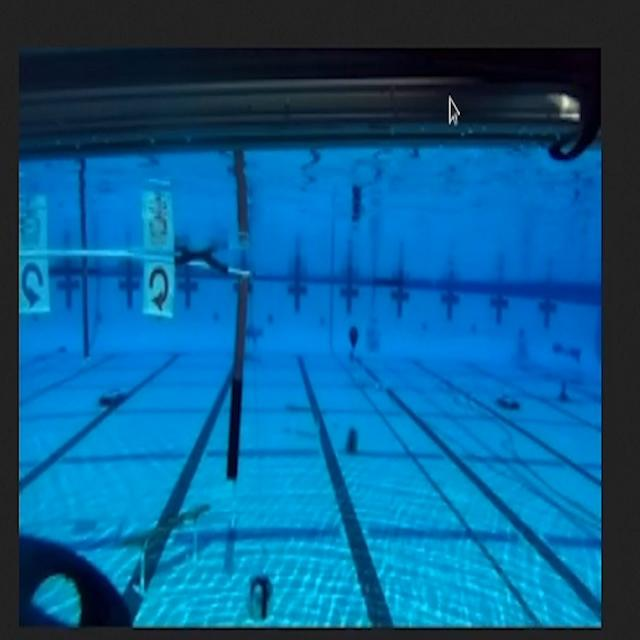Gate: (16, 242, 254, 502)
